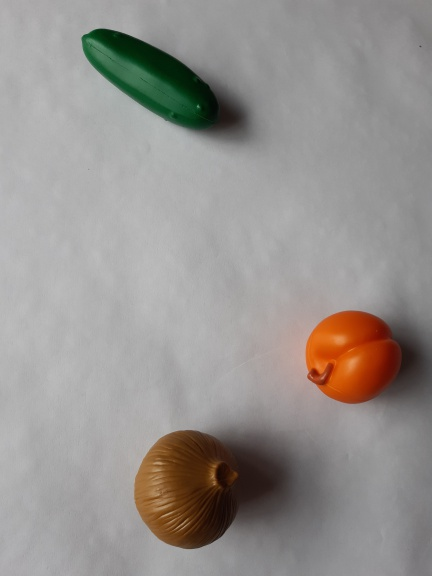apricot: (296, 301, 414, 407)
cucumber: (69, 14, 232, 140)
onion: (124, 423, 245, 554)
